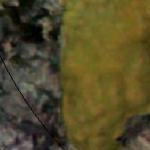alive: (11, 4, 144, 148)
